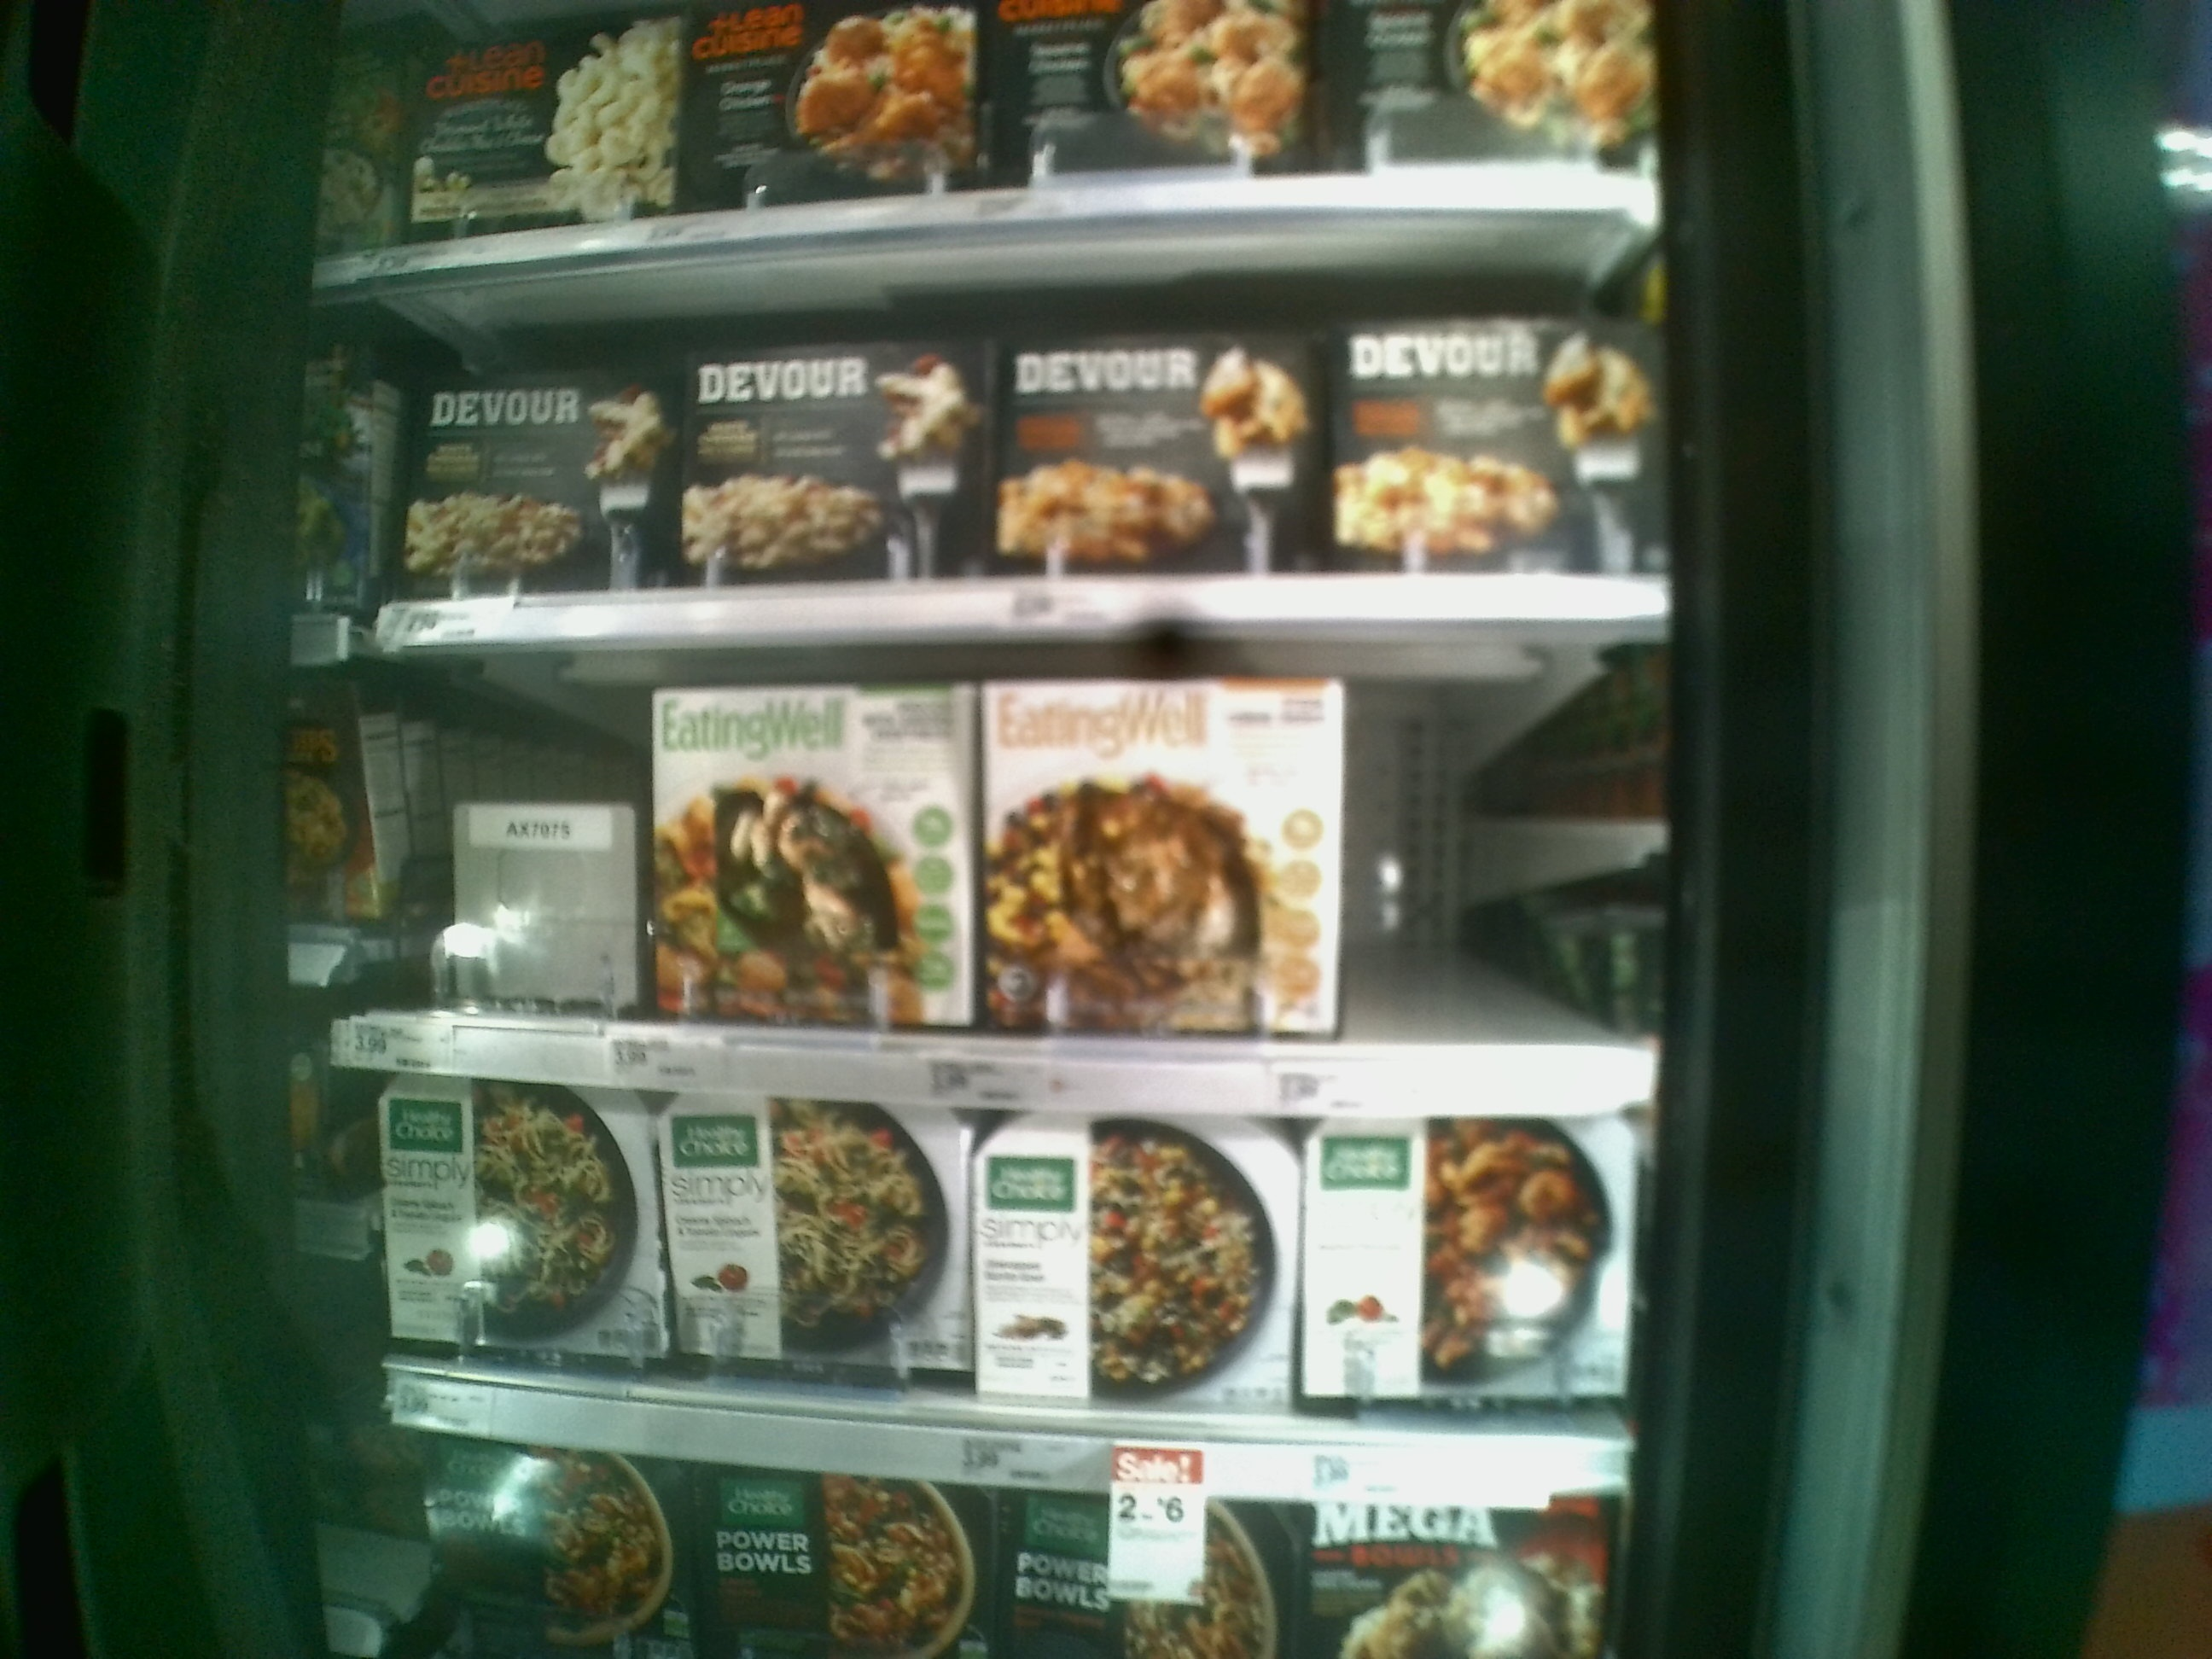shelf: (338, 626, 1669, 1105), (310, 214, 1669, 659), (336, 1065, 1641, 1514)
